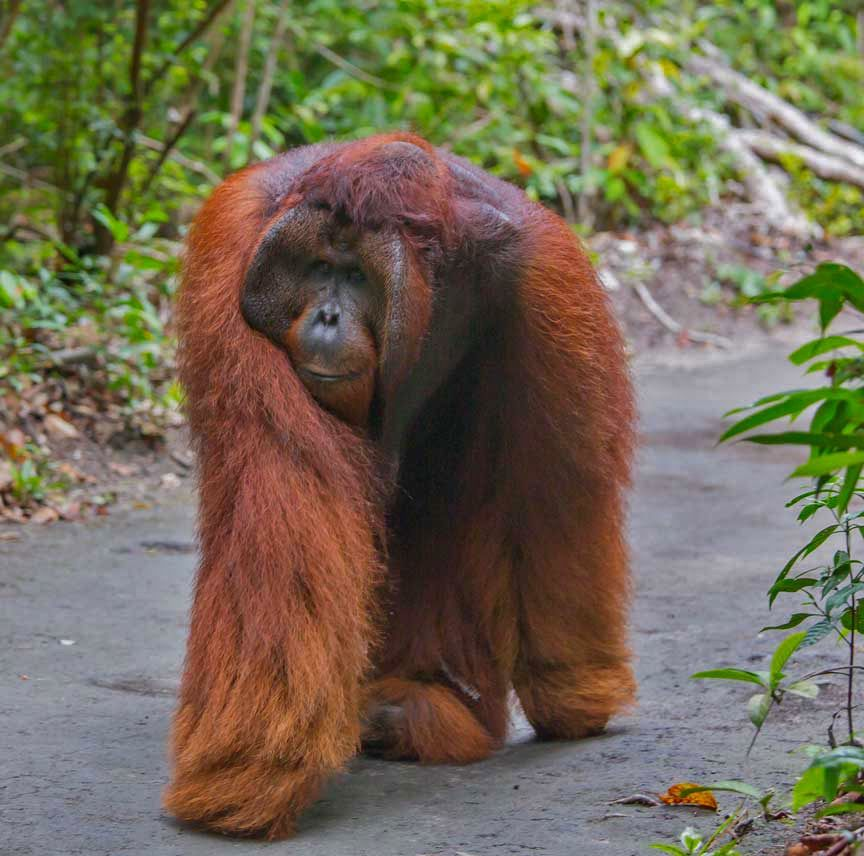Orangutan: (166, 123, 621, 809)
